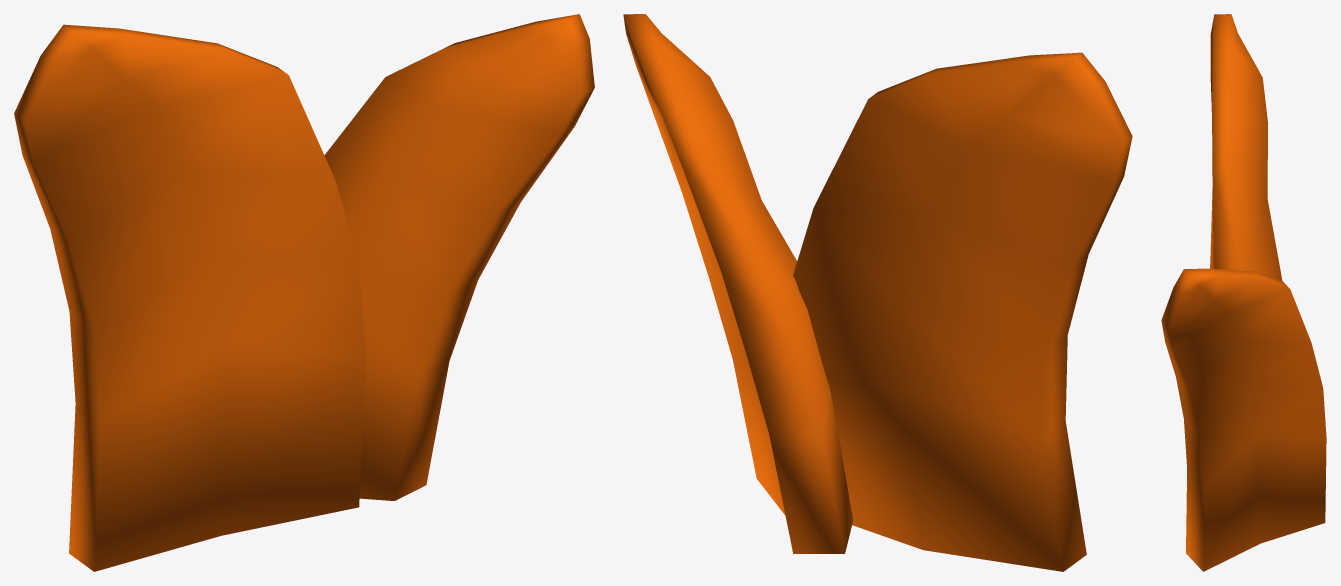
Rendered from grass-11_col.fbx.
3 views of the same model, side by side, from view 1: azimuth 30°, elevation 25°; view 2: azimuth 150°, elevation 25°; view 3: azimuth 270°, elevation 25° (orthographic). The views are drawn at different scales.
Visible parts, largest first — view 1: grass-11.col; view 2: grass-11.col; view 3: grass-11.col.
Boxes of the visible parts, x1,y1,x2,y2 form: grass-11.col: (14, 14, 594, 571); grass-11.col: (623, 14, 1132, 571); grass-11.col: (1161, 14, 1326, 571).
Size of the model in its own units: 0.0796 by 0.0743 by 0.0262.
1 material, 1 textured.
